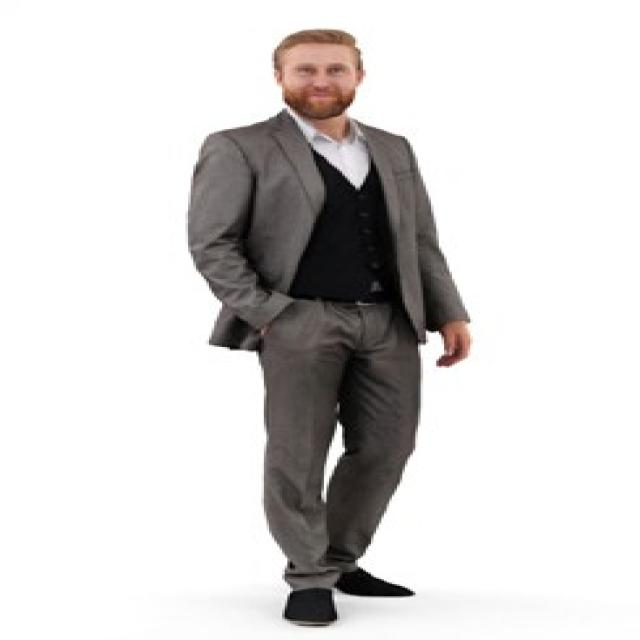standing: (188, 30, 480, 630)
